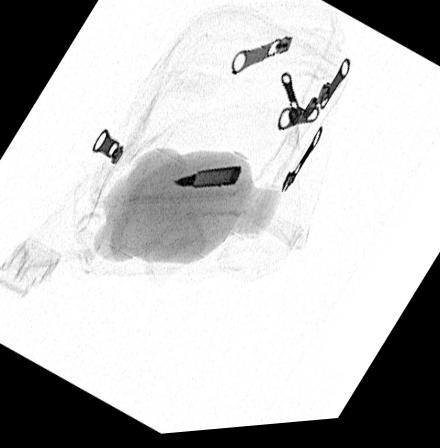Bullet: (173, 169, 242, 192)
